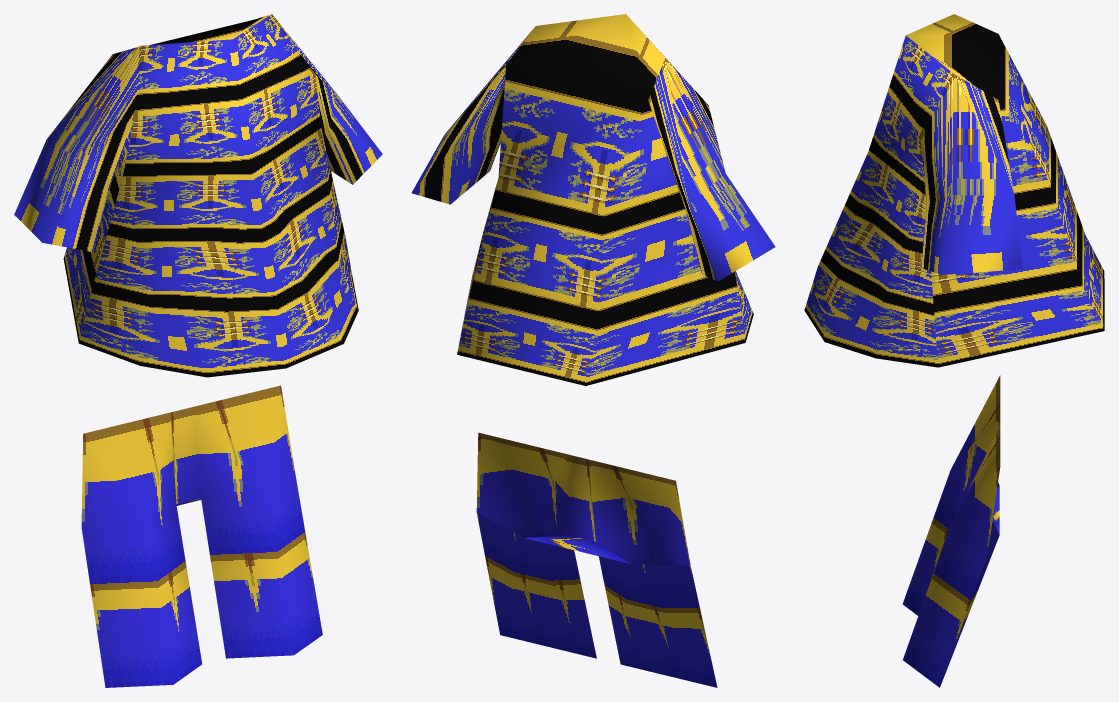
File: 1758cl_set_bot.gltf
The picture shows the model from 3 angles, left to right: view 1: azimuth 30°, elevation 25°; view 2: azimuth 150°, elevation 25°; view 3: azimuth 270°, elevation 25°; orthographic projection. The views are drawn at different scales.
Visible parts, largest first — view 1: 1758cl_set_bot; view 2: 1758cl_set_bot; view 3: 1758cl_set_bot.
Boxes of the visible parts, bbox=[...] form: 1758cl_set_bot: bbox=[14, 14, 382, 687]; 1758cl_set_bot: bbox=[411, 14, 775, 687]; 1758cl_set_bot: bbox=[804, 14, 1104, 687].
Bounding box in the file's own units: 1.09 × 1.96 × 0.8848.
Materials: 2 (2 with a texture image).
